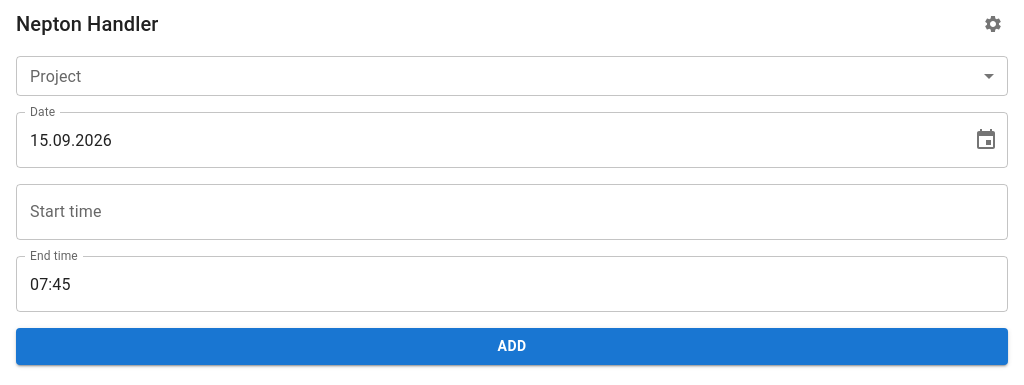
Test: App › normalizes start time on blur — 3-digit input
Type "830" into the field labelled "Start time".
click(512, 212); type("830")  # box 16,184 -> 1008,240
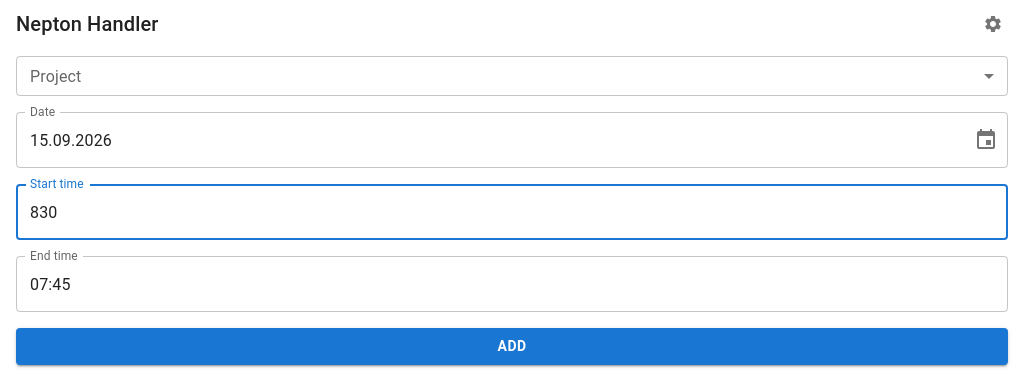
Leave the field labelled "Start time", box 16,184 -> 1008,240
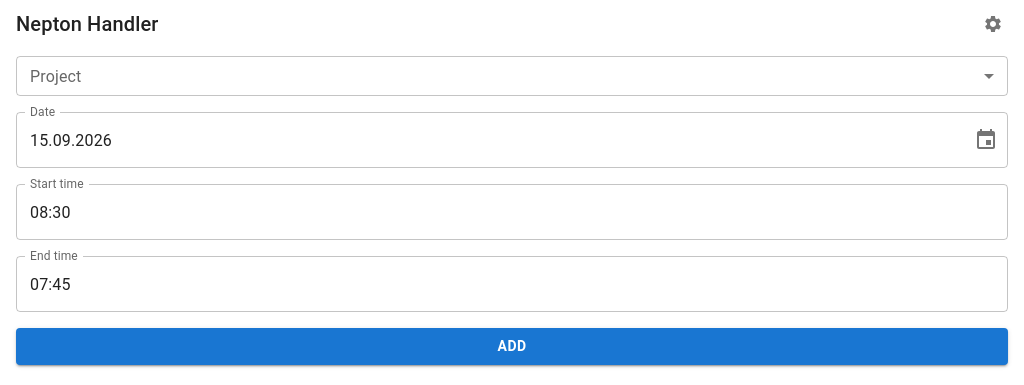
Now the field labelled "Start time" holds "08:30", box 16,184 -> 1008,240
